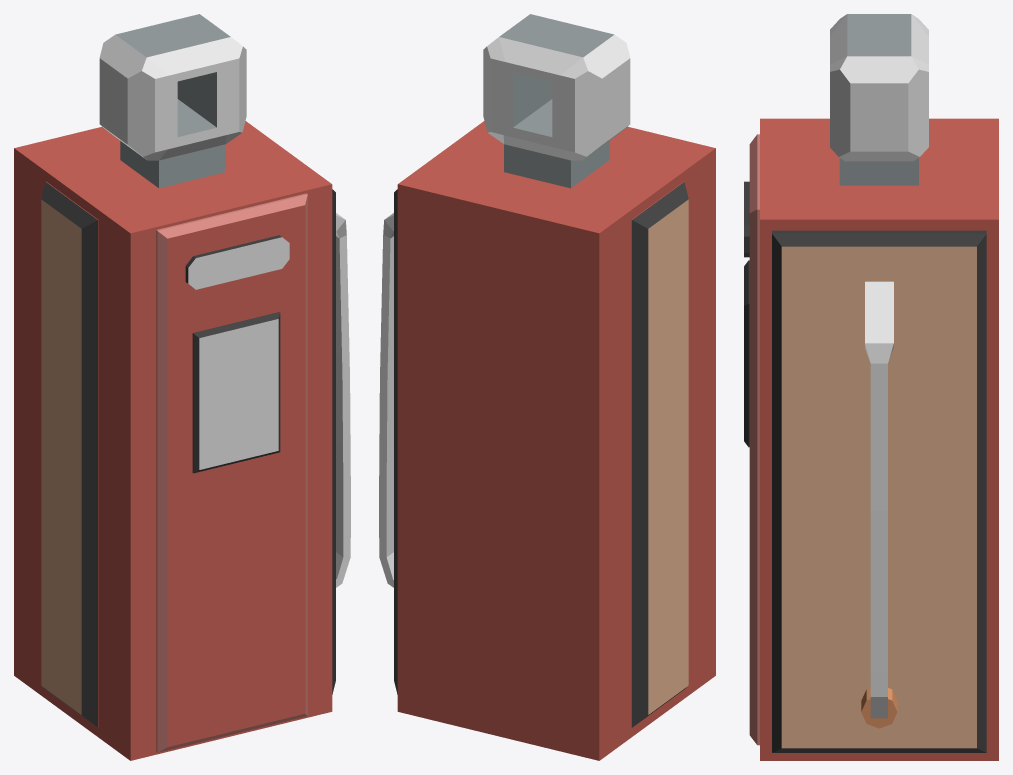
The model's file is Charge-Machine.fbx.
3 renders of one model, left to right at view 1: azimuth 30°, elevation 25°; view 2: azimuth 150°, elevation 25°; view 3: azimuth 270°, elevation 25°, orthographic. The views are drawn at different scales.
Visible parts, largest first — view 1: Charge-Machine; view 2: Charge-Machine; view 3: Charge-Machine.
Part boxes in pixels (box(x1,y1,x2,y2)): Charge-Machine: box(14, 14, 350, 760); Charge-Machine: box(379, 14, 715, 760); Charge-Machine: box(744, 14, 998, 760).
Size of the model in its own units: 1.41 by 3.12 by 1.07.
